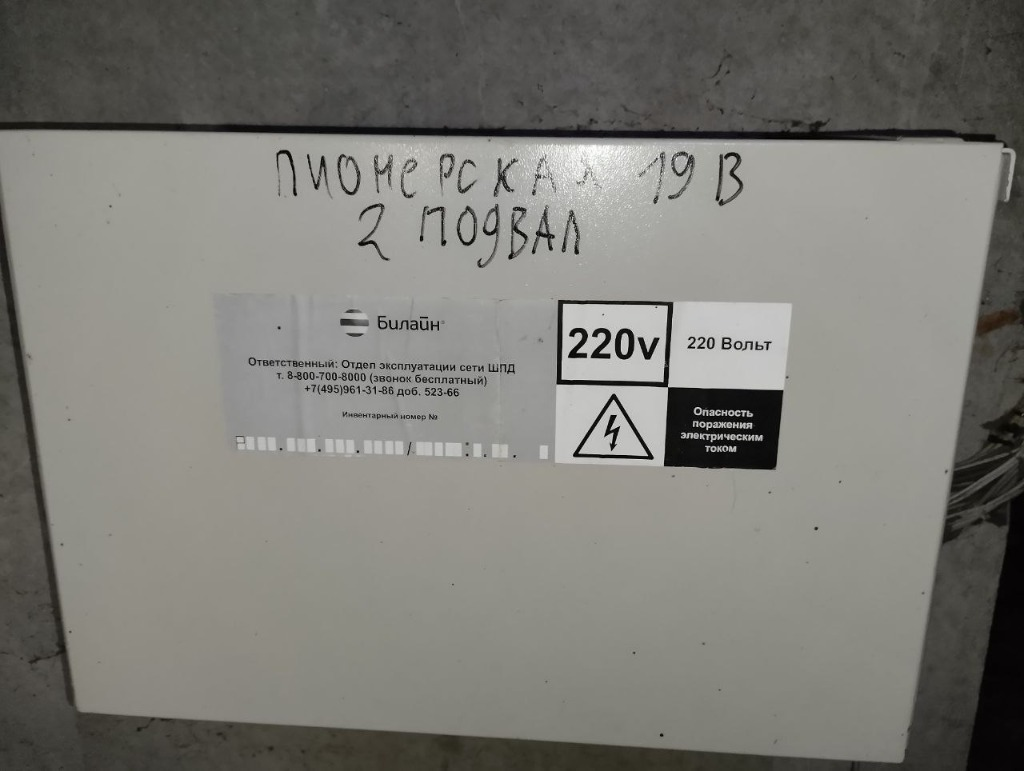sv-5: (2, 126, 1011, 766)
